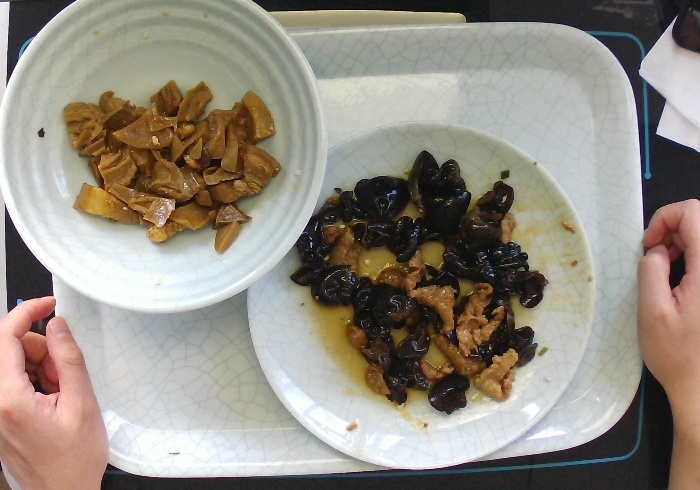JYsf-Da_Tang_Wan: (1, 1, 337, 326)
JYsf-Da_Yuan_Pan: (237, 110, 599, 478)
